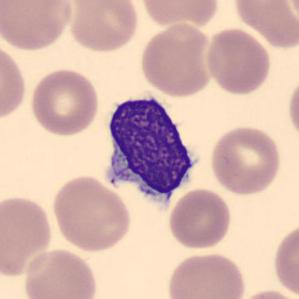Lymphocyte: (98, 88, 204, 211)
RBC: (50, 173, 134, 254), (138, 21, 215, 98), (208, 124, 283, 196), (27, 66, 101, 138), (204, 26, 274, 96), (0, 192, 55, 278), (166, 186, 233, 250), (21, 246, 100, 299), (164, 250, 248, 299), (0, 0, 76, 53), (67, 0, 140, 54), (231, 0, 298, 51), (137, 0, 221, 28), (0, 40, 28, 123), (271, 221, 298, 298), (285, 73, 299, 144), (234, 287, 298, 299)
